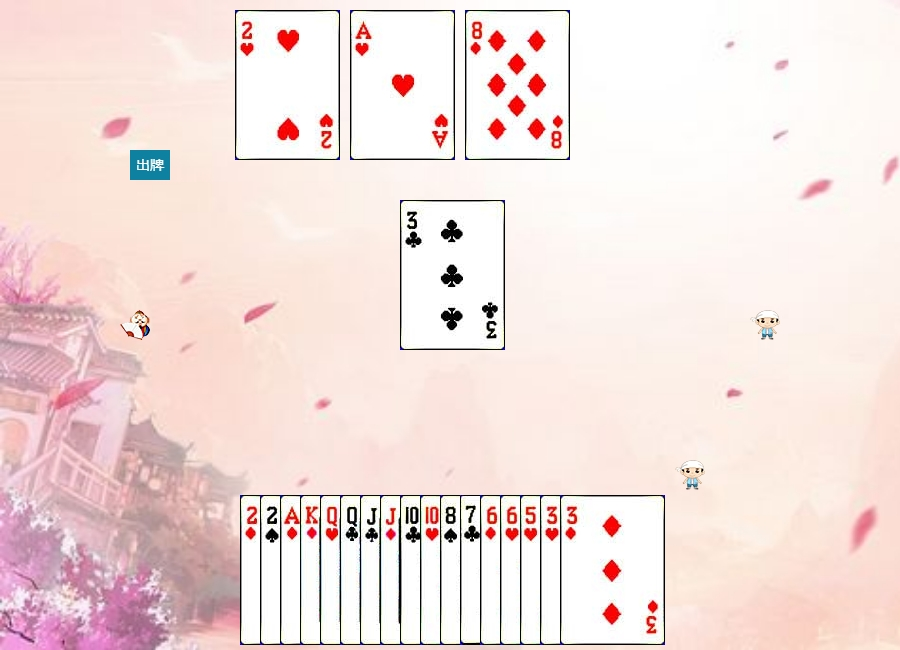10~2: (400, 495, 505, 645)
10~3: (420, 495, 525, 645)
11~1: (380, 495, 485, 645)
11~2: (360, 495, 465, 645)
12~2: (340, 495, 445, 645)
12~3: (320, 495, 425, 645)
13~1: (300, 495, 405, 645)
14~1: (280, 495, 385, 645)
14~3: (350, 10, 455, 160)
15~1: (240, 495, 345, 645)
15~3: (235, 10, 340, 160)
15~4: (260, 495, 365, 645)
3~1: (560, 495, 665, 645)
3~2: (400, 200, 505, 350)
3~3: (540, 495, 645, 645)
5~3: (520, 495, 625, 645)
6~1: (480, 495, 585, 645)
6~3: (500, 495, 605, 645)
7~2: (460, 495, 565, 645)
8~1: (465, 10, 570, 160)
8~4: (440, 495, 545, 645)
